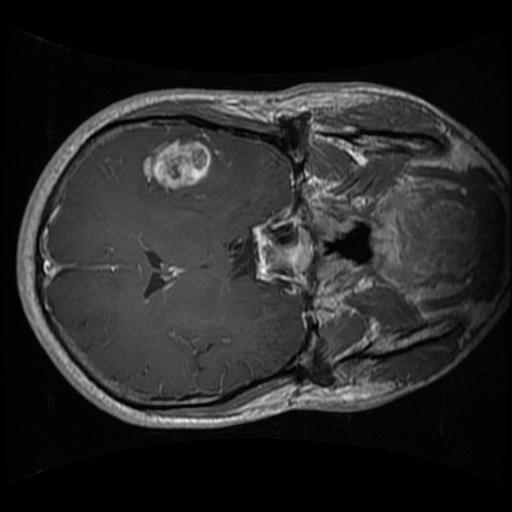glioma: (138, 130, 222, 195)
